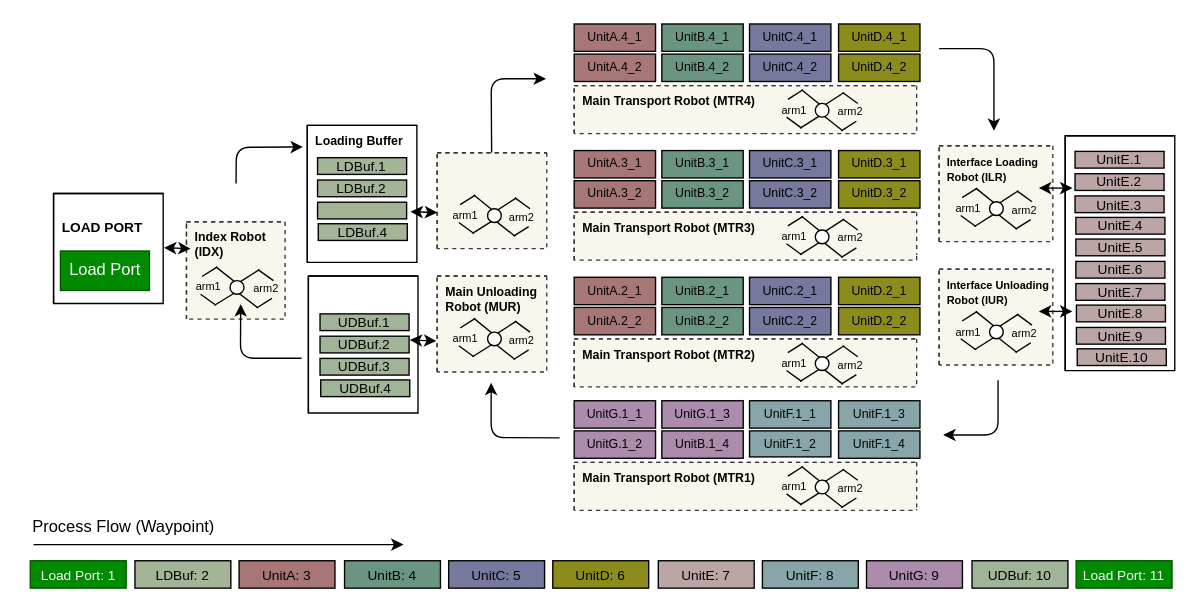
Some shapes in this 1199 by 612 pixel diagram are drawn without their labels. Each missing label, with the box of its shape:
LDBuf.3: (316, 201, 407, 219)
Main Loading Robot (MLR): (436, 151, 547, 249)
Unloading Buffer: (307, 275, 418, 413)
